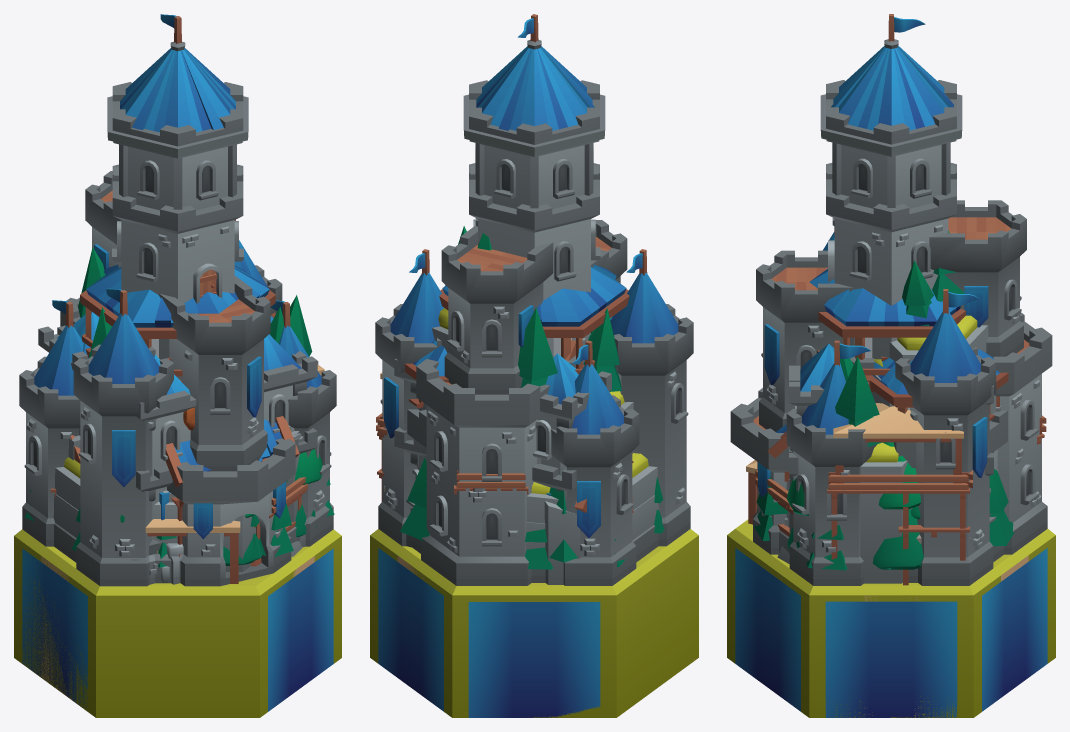
File: medieval.glb
3 renders of one model, left to right at view 1: azimuth 30°, elevation 25°; view 2: azimuth 150°, elevation 25°; view 3: azimuth 270°, elevation 25°, orthographic.
Parts seen in each view (by area): view 1: building_castle_blue, hex_river_B, hex_river_I, hex_river_A, building_barracks_blue, hex_grass, building_tower_B_top_blue, mountain_A_grass_trees, building_scaffolding, hex_river_E, mountain_B_grass_trees, building_watermill_blue (+5 smaller); view 2: building_castle_blue, hex_river_I, hex_grass, hex_river_B, hex_road_I, building_barracks_blue, mountain_A_grass_trees, building_tower_B_top_blue, mountain_B_grass_trees, trees_A_large, building_mine_blue, hex_coast_B_waterless (+6 smaller); view 3: building_castle_blue, hex_river_A, hex_river_E, hex_river_B, hex_river_I, building_scaffolding, mountain_B_grass_trees, building_tower_B_top_blue, building_archeryrange_blue, trees_A_large, building_barracks_blue, trees_B_medium (+6 smaller).
Part boxes in pixels (x1,y1,x2,y2): building_castle_blue: (19, 14, 336, 586); hex_river_B: (96, 546, 309, 717); hex_river_I: (20, 529, 341, 717); hex_river_A: (14, 532, 341, 716); building_barracks_blue: (38, 311, 317, 584); hex_grass: (14, 531, 341, 717); building_tower_B_top_blue: (80, 264, 275, 382); mountain_A_grass_trees: (53, 247, 312, 571); building_scaffolding: (50, 364, 324, 583); hex_river_E: (14, 537, 301, 708); mountain_B_grass_trees: (55, 306, 283, 571); building_watermill_blue: (165, 416, 299, 584); building_castle_blue: (375, 14, 693, 585); hex_river_I: (452, 586, 616, 717); hex_grass: (379, 530, 698, 717); hex_river_B: (370, 529, 561, 717); hex_road_I: (433, 536, 698, 716); building_barracks_blue: (394, 316, 612, 547); mountain_A_grass_trees: (445, 285, 658, 549); building_tower_B_top_blue: (439, 264, 629, 374); mountain_B_grass_trees: (418, 226, 657, 523); trees_A_large: (400, 457, 664, 569); building_mine_blue: (544, 501, 580, 584); hex_coast_B_waterless: (403, 546, 698, 686); building_castle_blue: (730, 14, 1052, 585); hex_river_A: (743, 539, 1047, 717); hex_river_E: (809, 586, 963, 717); hex_river_B: (735, 519, 1055, 717); hex_river_I: (727, 529, 902, 717); building_scaffolding: (746, 403, 1046, 585); mountain_B_grass_trees: (840, 230, 996, 583); building_tower_B_top_blue: (809, 268, 965, 392); building_archeryrange_blue: (870, 349, 1008, 523); trees_A_large: (752, 469, 1014, 570); building_barracks_blue: (789, 343, 993, 476); trees_B_medium: (872, 442, 923, 569).
Size of the model in its own units: 2 by 4.98 by 2.31.
1 material, 1 textured.
